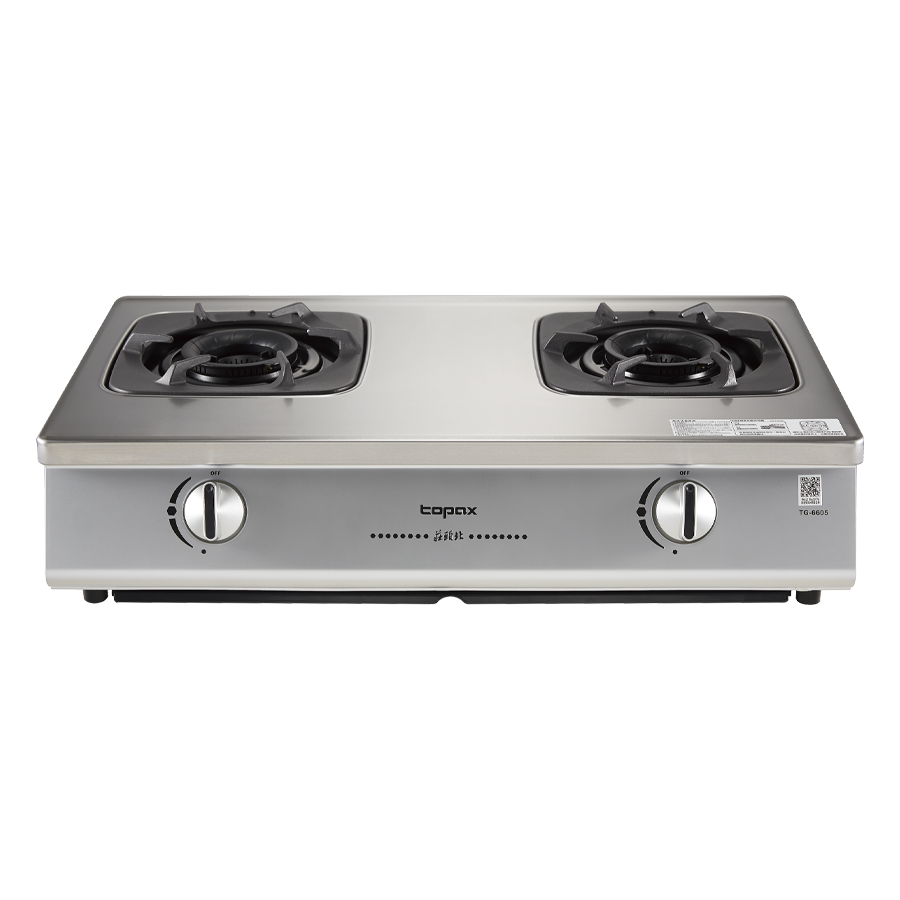gasoven: (29, 288, 865, 620)
